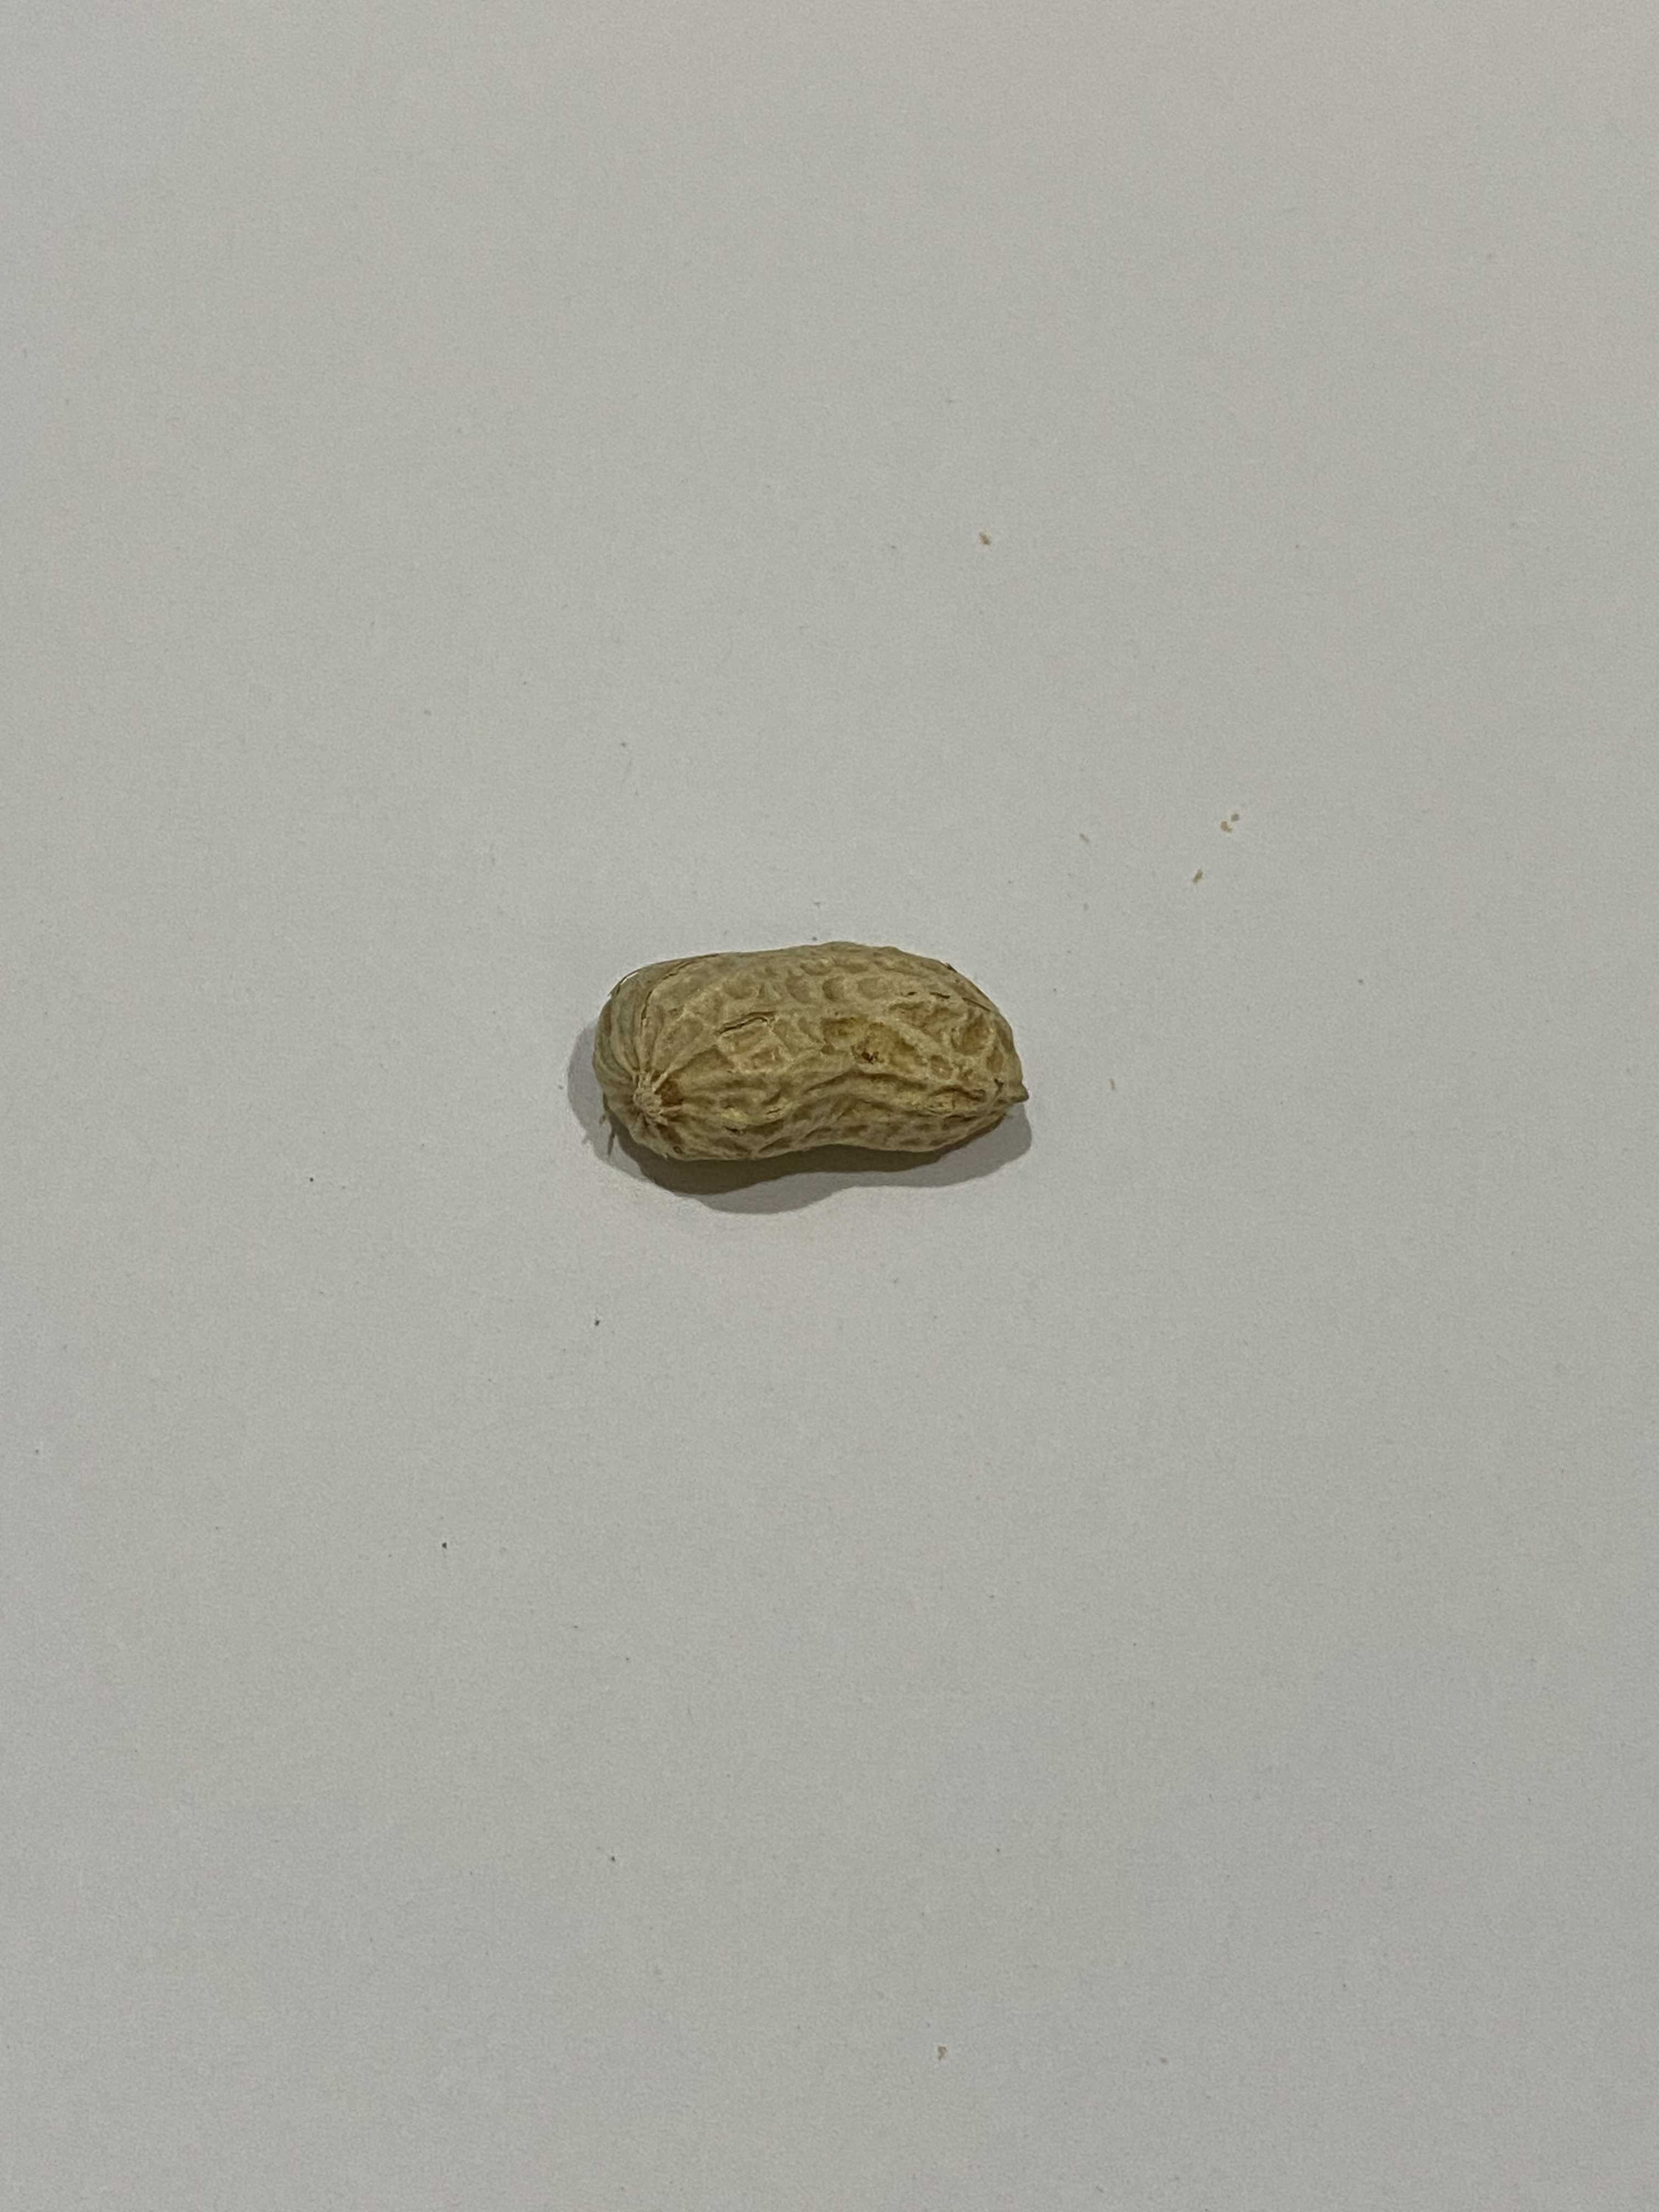kacang2: (573, 894, 1051, 1174)
